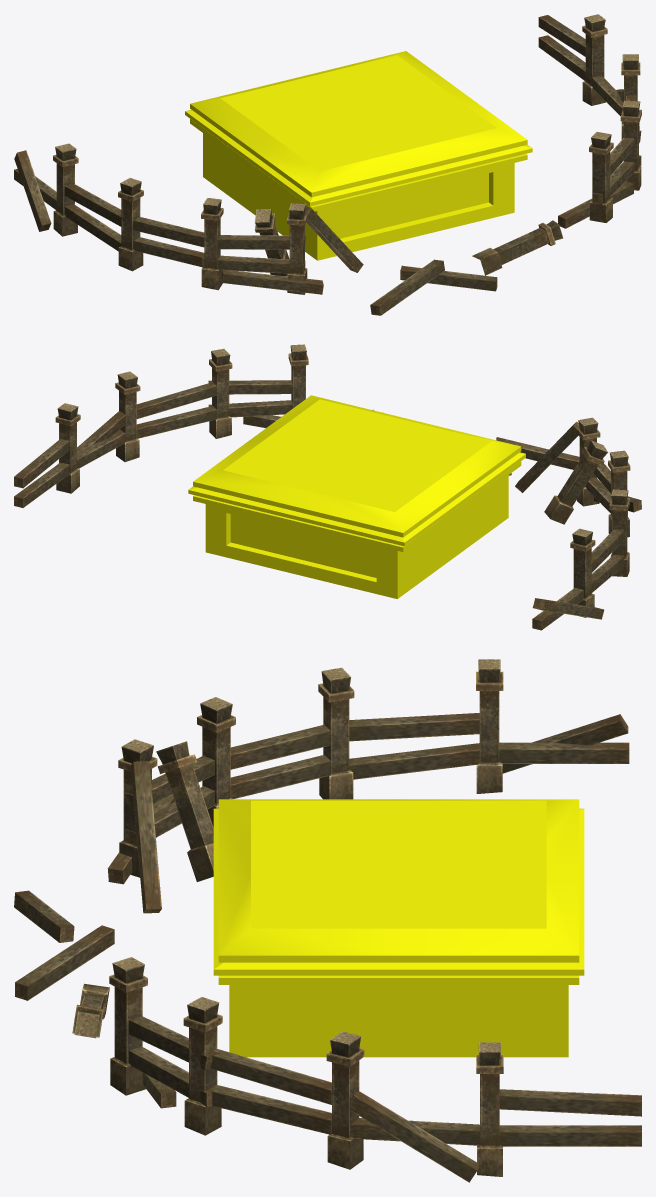
Rendered from 2st_table_001.glb.
3 renders of one model, top to bottom at view 1: azimuth 30°, elevation 25°; view 2: azimuth 150°, elevation 25°; view 3: azimuth 270°, elevation 25°, orthographic. The views are drawn at different scales.
Parts seen in each view (by area): view 1: 4st_table_001; view 2: 4st_table_001; view 3: 4st_table_001.
Part boxes in pixels (bbox=[...]): 4st_table_001: bbox=[14, 14, 641, 315]; 4st_table_001: bbox=[14, 344, 641, 630]; 4st_table_001: bbox=[14, 659, 641, 1182].
Bounding box in the file's own units: 12.73 × 2.08 × 8.14.
2 materials, 2 textured.
